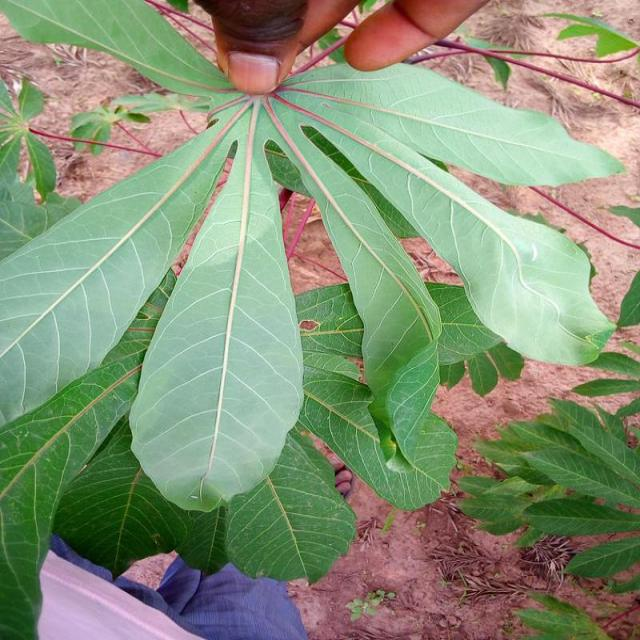cassava leaf: (1, 1, 626, 634), (127, 100, 306, 513)
